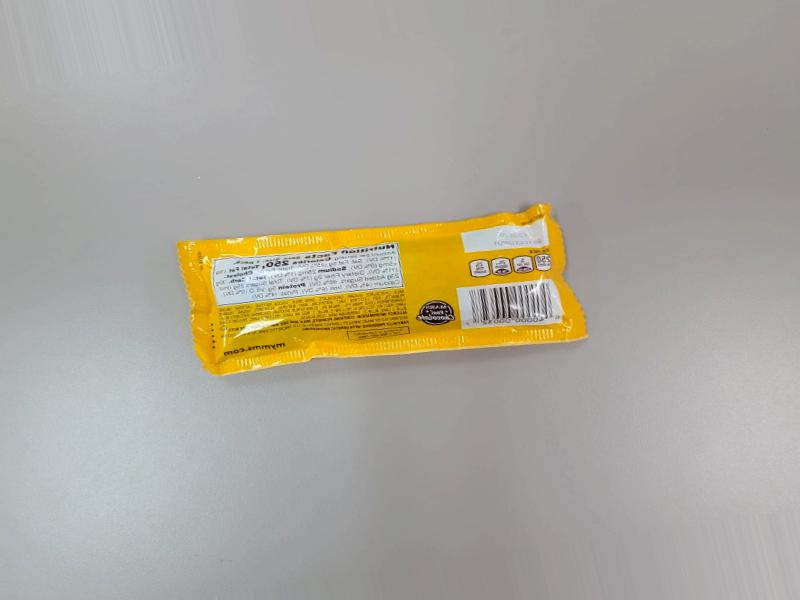m&m: (186, 189, 603, 368)
